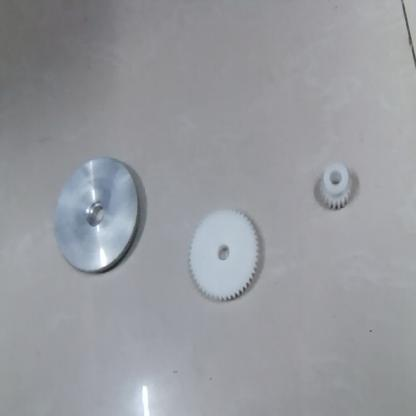FOD: (50, 157, 146, 276), (182, 205, 266, 310), (310, 154, 366, 215)
